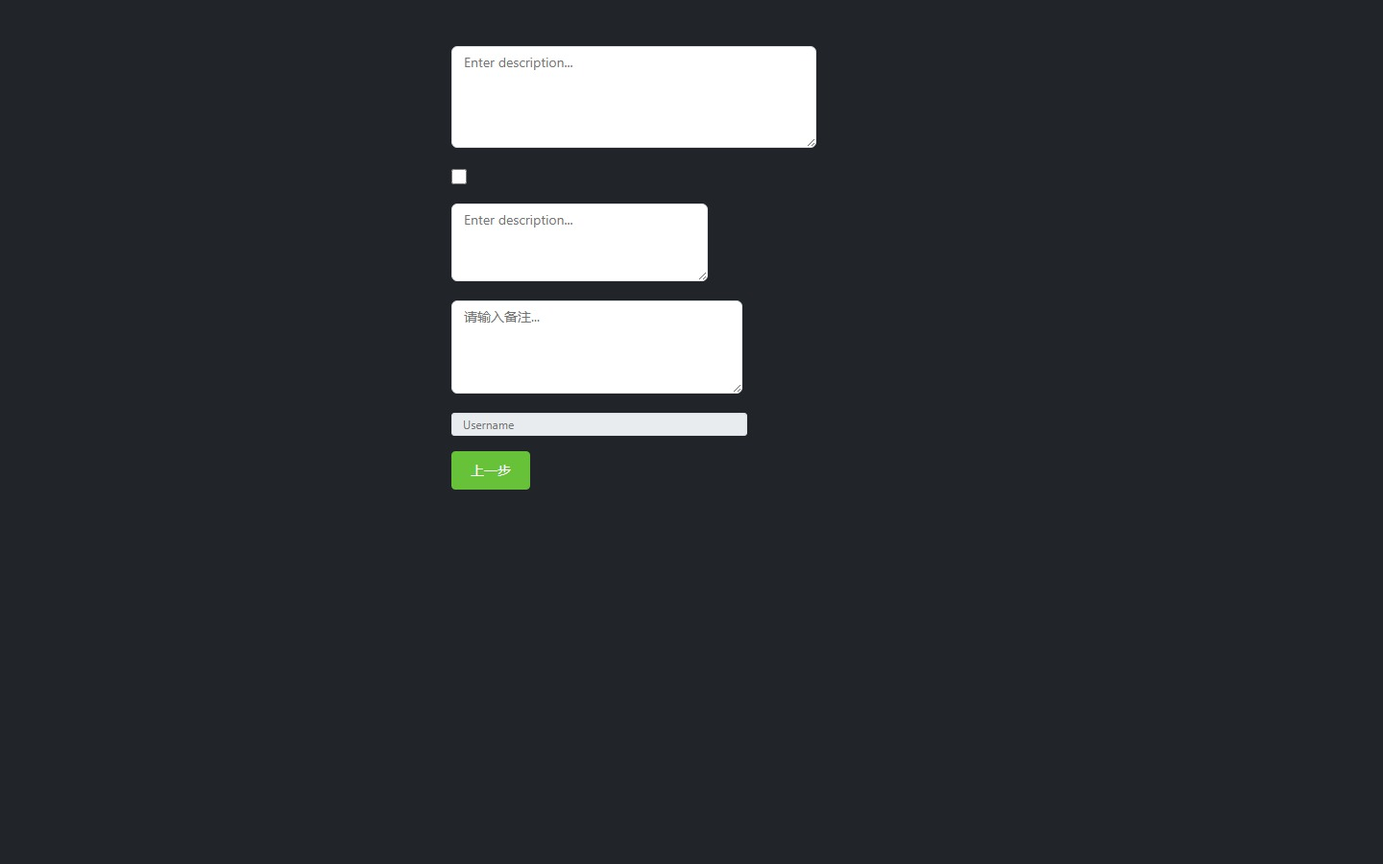button: (451, 451, 530, 489)
checkbox: (451, 168, 467, 184)
icon: (474, 167, 569, 185)
input: (451, 412, 747, 435)
radio: (451, 167, 569, 185)
textarea: (451, 46, 816, 148), (451, 300, 742, 393), (451, 203, 708, 281)
